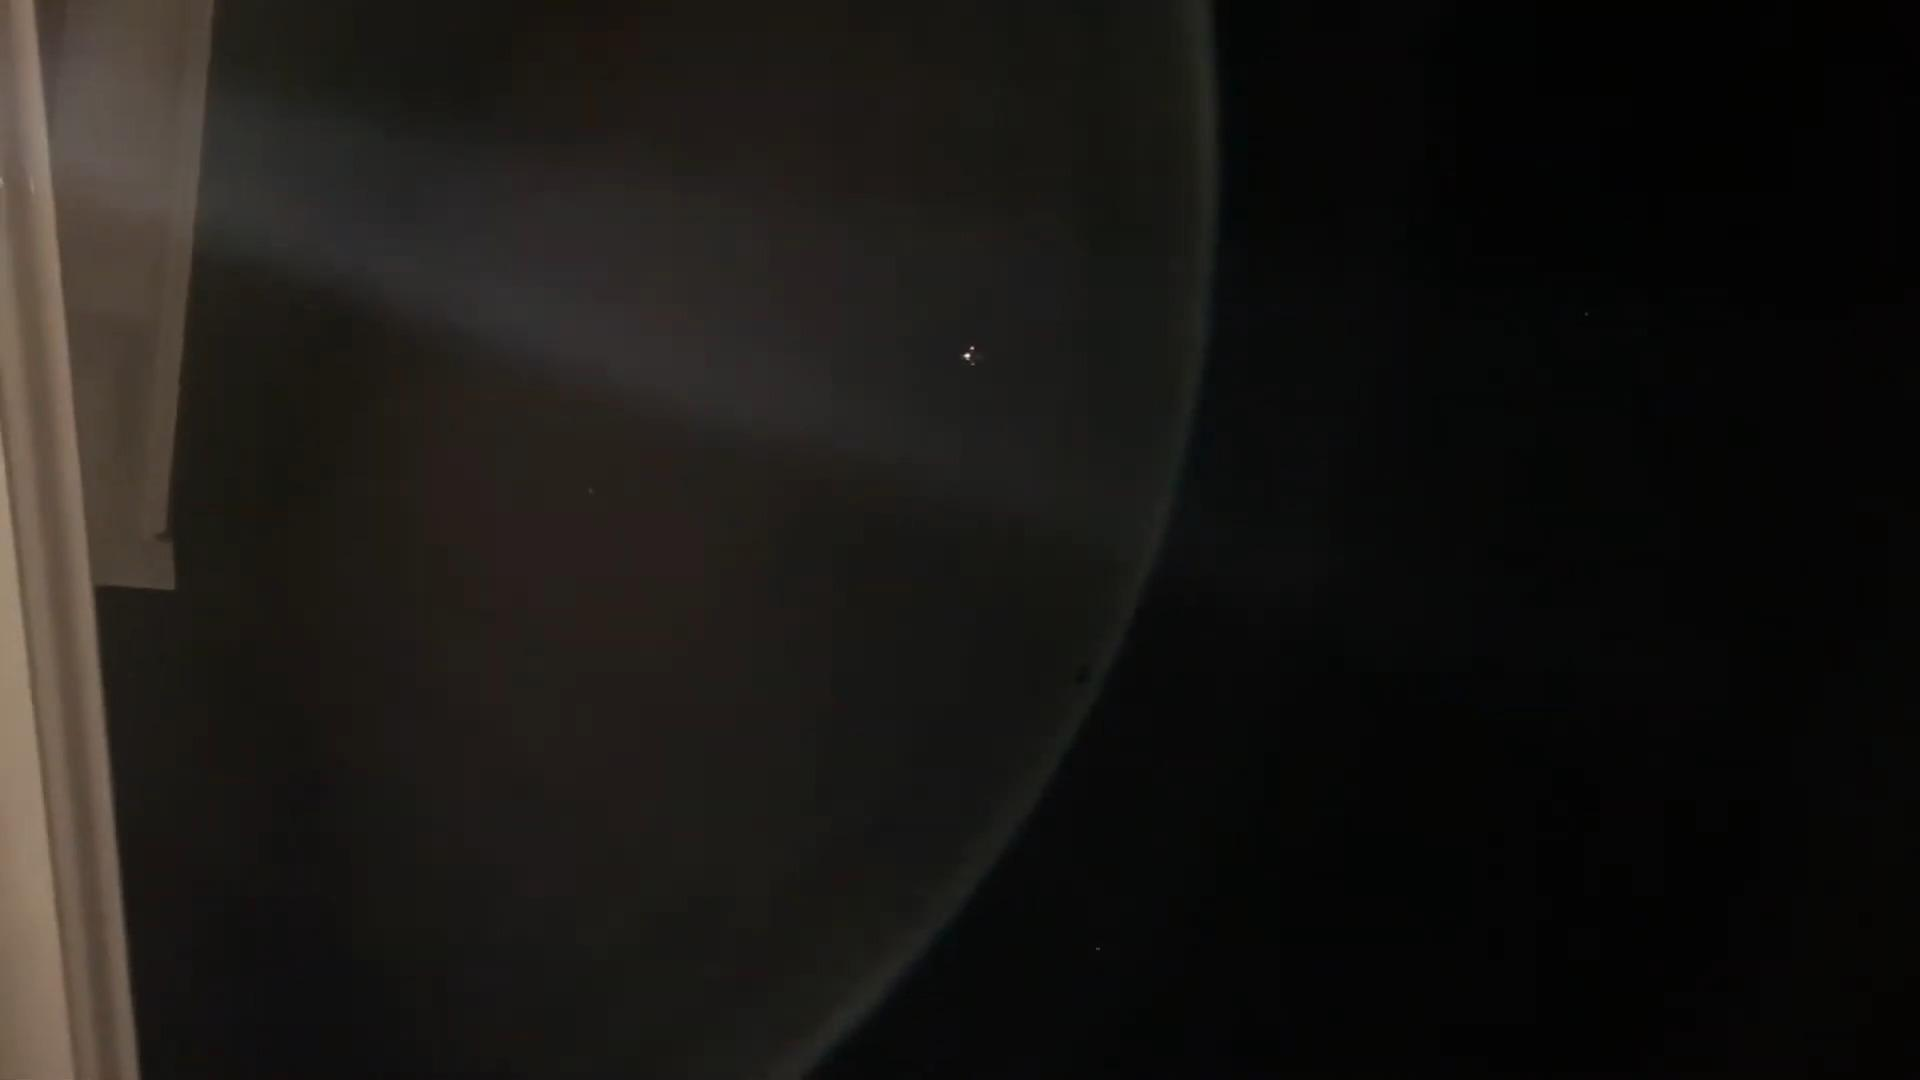Plane: (944, 328, 1014, 371)
